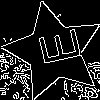E: (29, 26, 82, 70)
